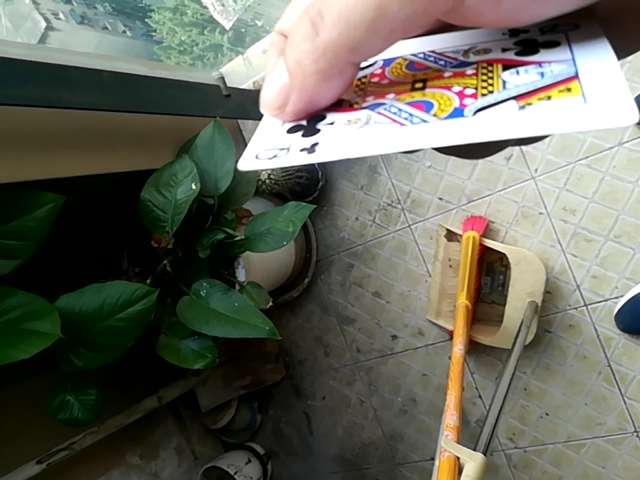mh q: (225, 12, 633, 159)
